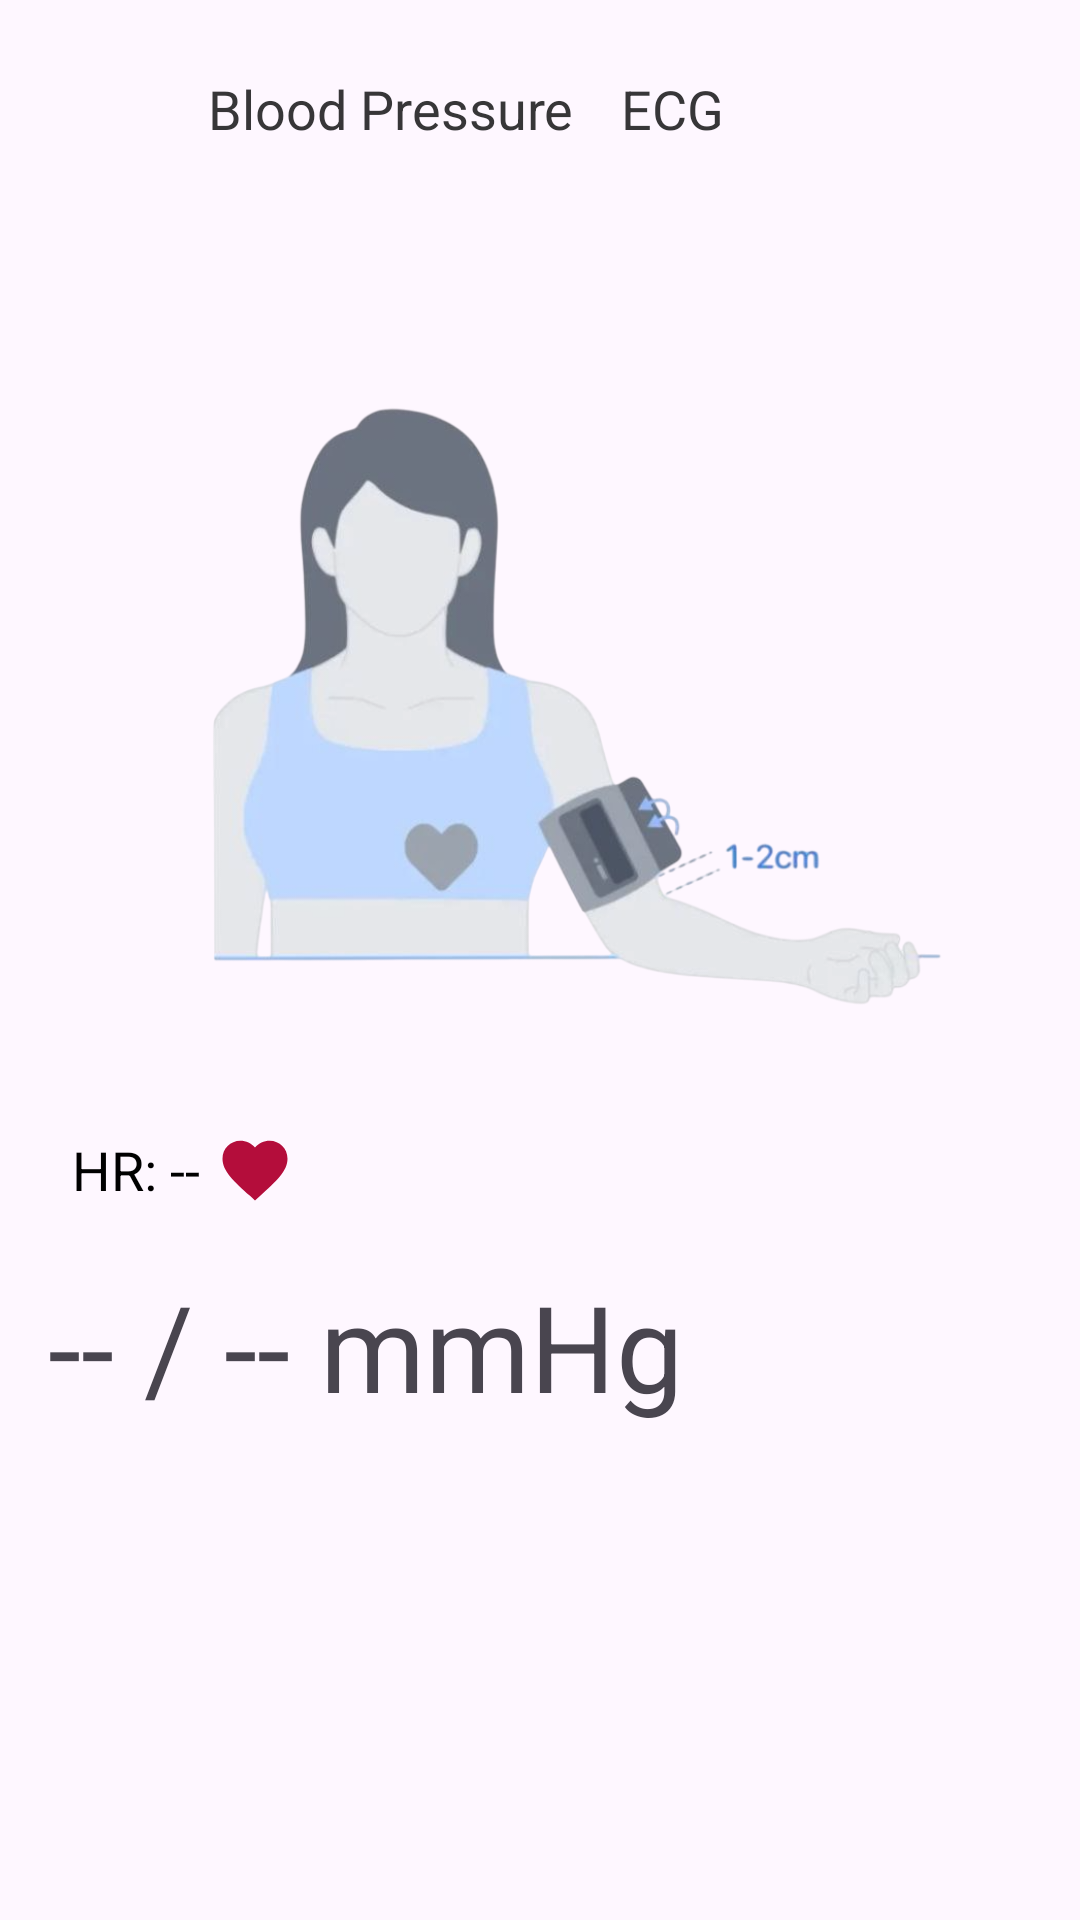

Named icons in this screenshot (1080x1920) and their bounding boxes, bbox=[x1, y1, x2, y2]:
heart: bbox=[222, 1140, 288, 1201]
